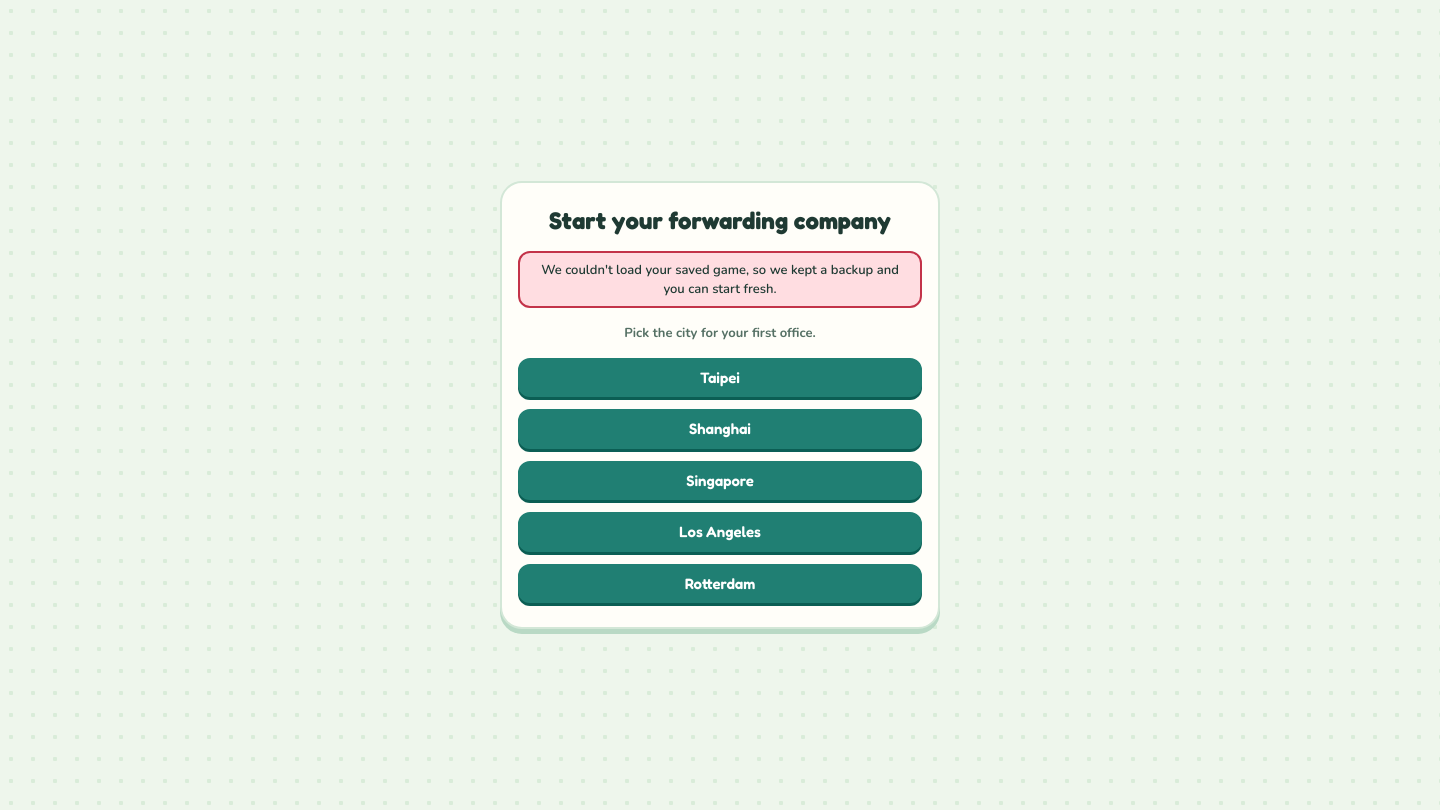
Test: App › a stored save that cannot be loaded › a corrupt save: setup says so, a backup is kept, and a new game still starts
This screenshot has width=1440, height=810.
Check: the message reads "We couldn't load your saved game, so we kept a backup and you can start fresh.", box [541,261,899,298]
Click the button "Taipei": (720, 378) [518,358,922,397]
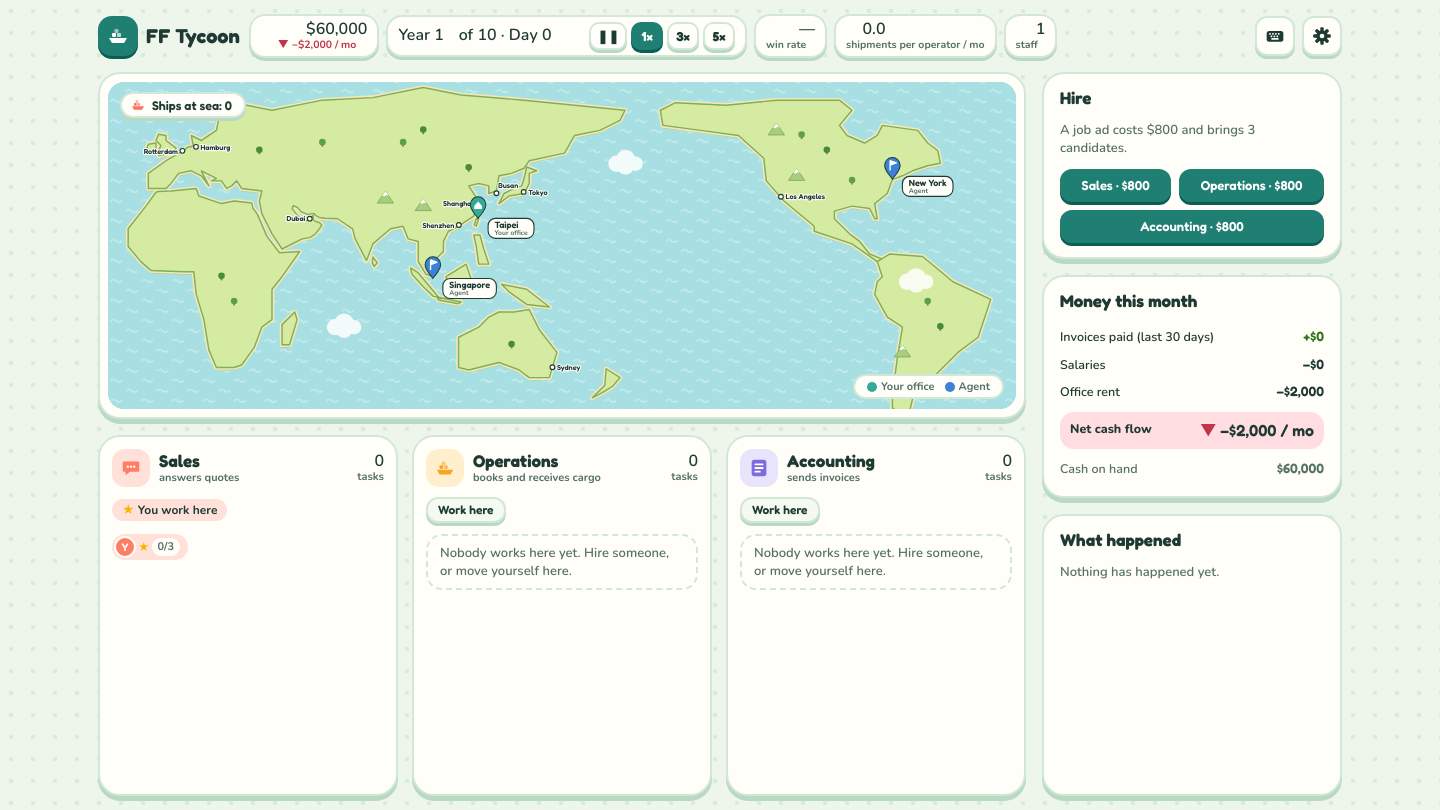
Check: the element with class "game-body" is shown
Check: the message "We couldn't load your saved game, so we kept a backup and you can start fresh." is gone
